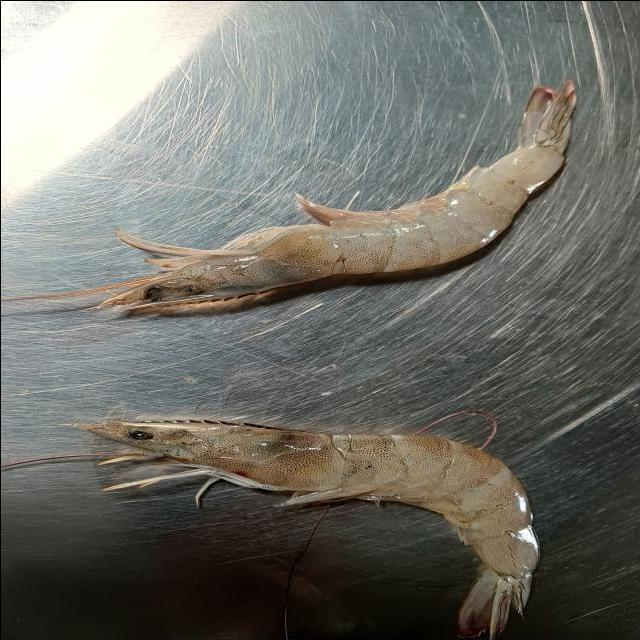shrimp: (80, 80, 579, 319), (85, 79, 582, 311), (58, 420, 536, 640)
